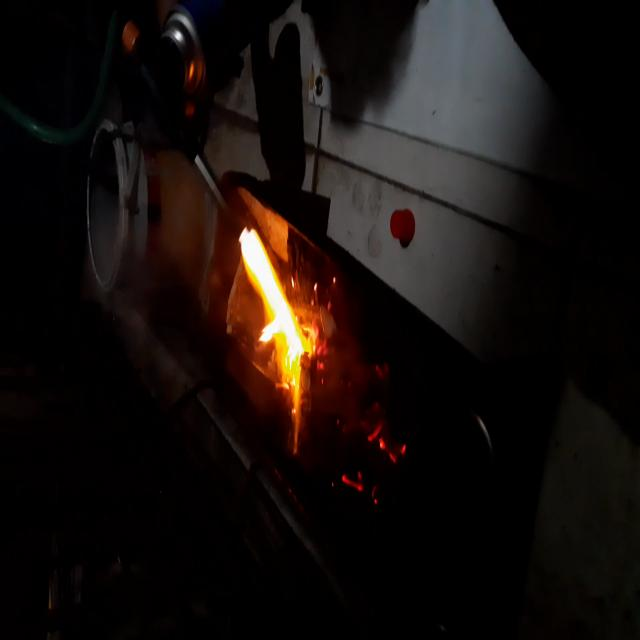Fire: (239, 215, 319, 433), (338, 375, 414, 533)
